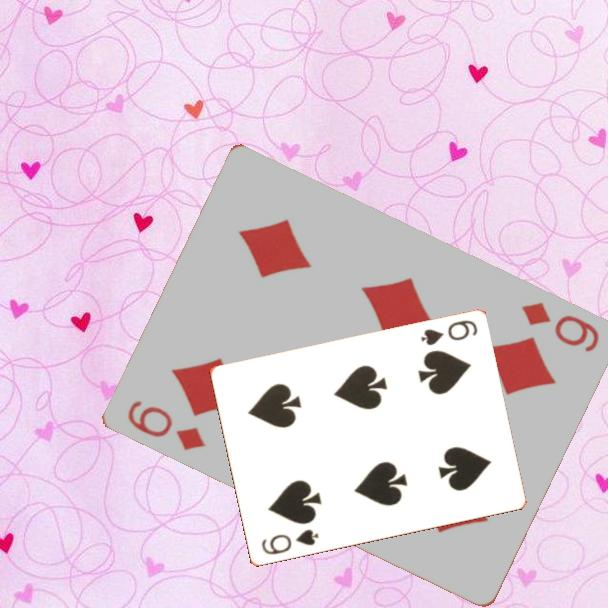d06: (124, 396, 210, 454), (518, 298, 603, 355)
s06: (258, 526, 322, 558), (417, 317, 480, 349)
